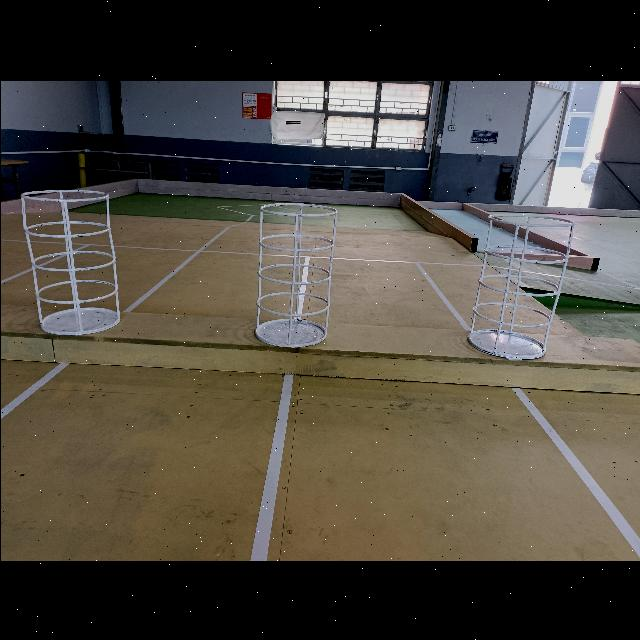S: (466, 213, 574, 359), (22, 189, 119, 334), (254, 201, 335, 346)
